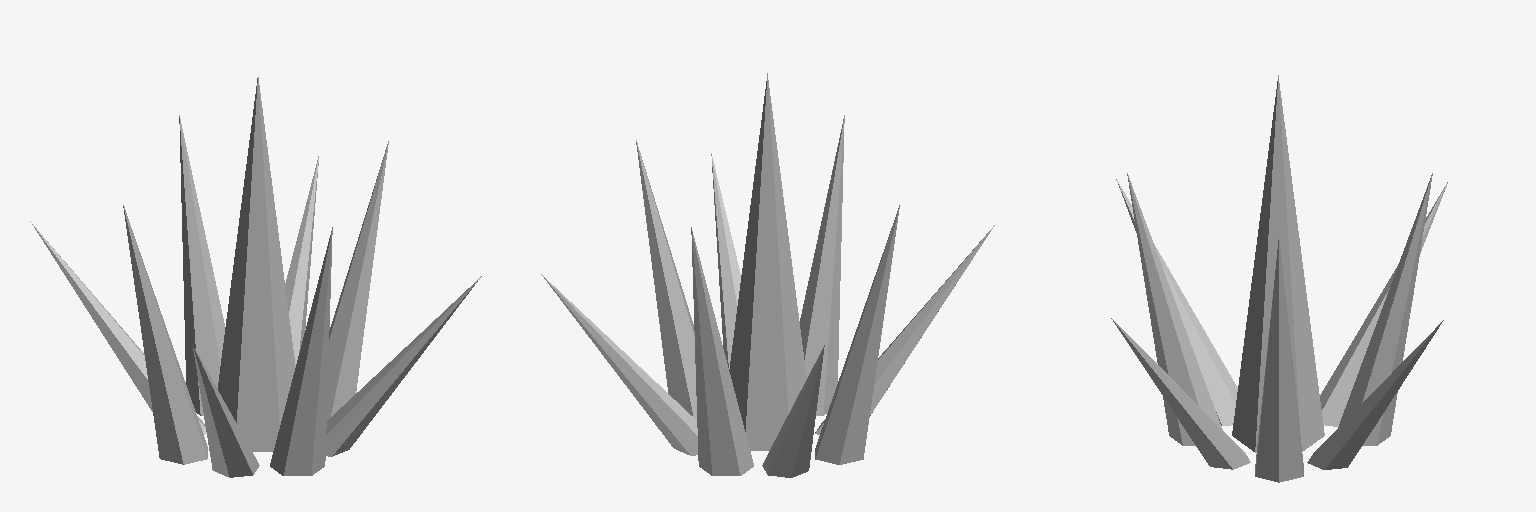
The model's file is Piege.obj.
The picture shows the model from 3 angles: view 1: azimuth 30°, elevation 25°; view 2: azimuth 150°, elevation 25°; view 3: azimuth 270°, elevation 25°; orthographic projection.
Visible parts, largest first — view 1: Cone, Cone.001, Cone.004, Cone.002, Cone.003, Cone.006, Cone.008, Cone.005, Cone.007; view 2: Cone, Cone.002, Cone.004, Cone.001, Cone.003, Cone.007, Cone.005, Cone.008, Cone.006; view 3: Cone, Cone.003, Cone.001, Cone.002, Cone.006, Cone.007, Cone.008, Cone.005.
Boxes of the visible parts, <box> form: Cone: <box>218,77,295,451</box>; Cone.001: <box>270,227,332,475</box>; Cone.004: <box>123,205,207,464</box>; Cone.002: <box>179,115,224,415</box>; Cone.003: <box>327,141,388,420</box>; Cone.006: <box>326,276,481,456</box>; Cone.008: <box>193,346,259,477</box>; Cone.005: <box>30,221,206,434</box>; Cone.007: <box>285,156,318,364</box>; Cone: <box>729,73,806,450</box>; Cone.002: <box>691,227,753,475</box>; Cone.004: <box>815,205,899,464</box>; Cone.001: <box>800,115,844,415</box>; Cone.003: <box>636,140,696,419</box>; Cone.007: <box>541,274,697,455</box>; Cone.005: <box>762,345,824,477</box>; Cone.008: <box>815,225,994,434</box>; Cone.006: <box>711,153,740,368</box>; Cone: <box>1232,75,1324,452</box>; Cone.003: <box>1255,239,1303,482</box>; Cone.001: <box>1127,173,1222,445</box>; Cone.002: <box>1338,173,1432,445</box>; Cone.006: <box>1111,318,1250,469</box>; Cone.007: <box>1307,320,1443,469</box>; Cone.008: <box>1116,179,1237,425</box>; Cone.005: <box>1320,182,1447,426</box>.
Bounding box in the file's own units: 7.24 × 8.66 × 7.29.